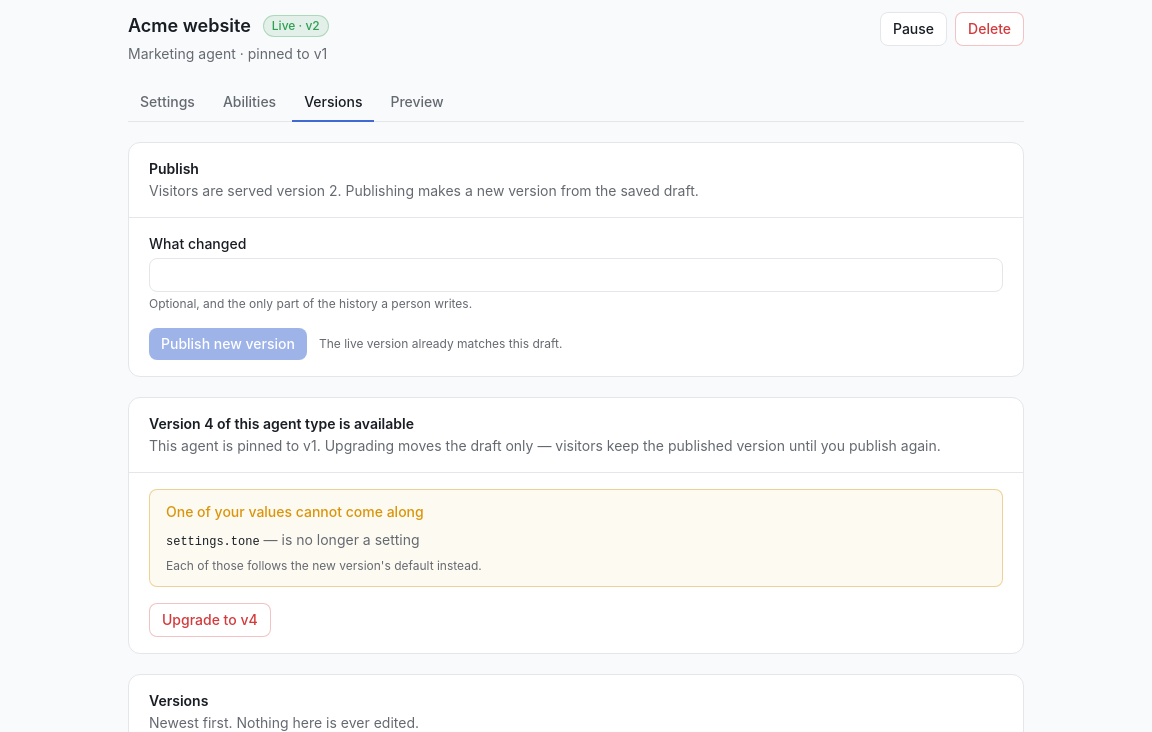
Test: upgrading the agent type › moves the draft only, and takes two clicks when something is dropped
Click the button "Upgrade to v4" at (210, 620), box x1=149 y1=603 x2=271 y2=637
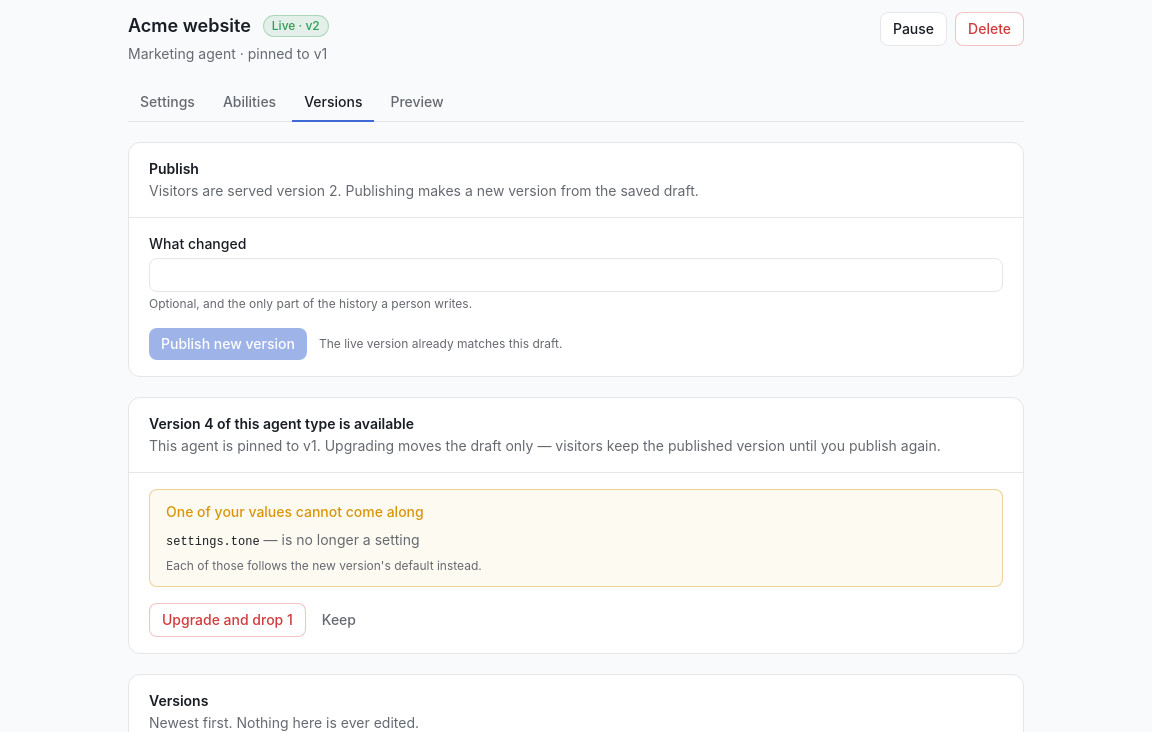
Click the button "Upgrade and drop 1" at (227, 620), box x1=149 y1=603 x2=306 y2=637
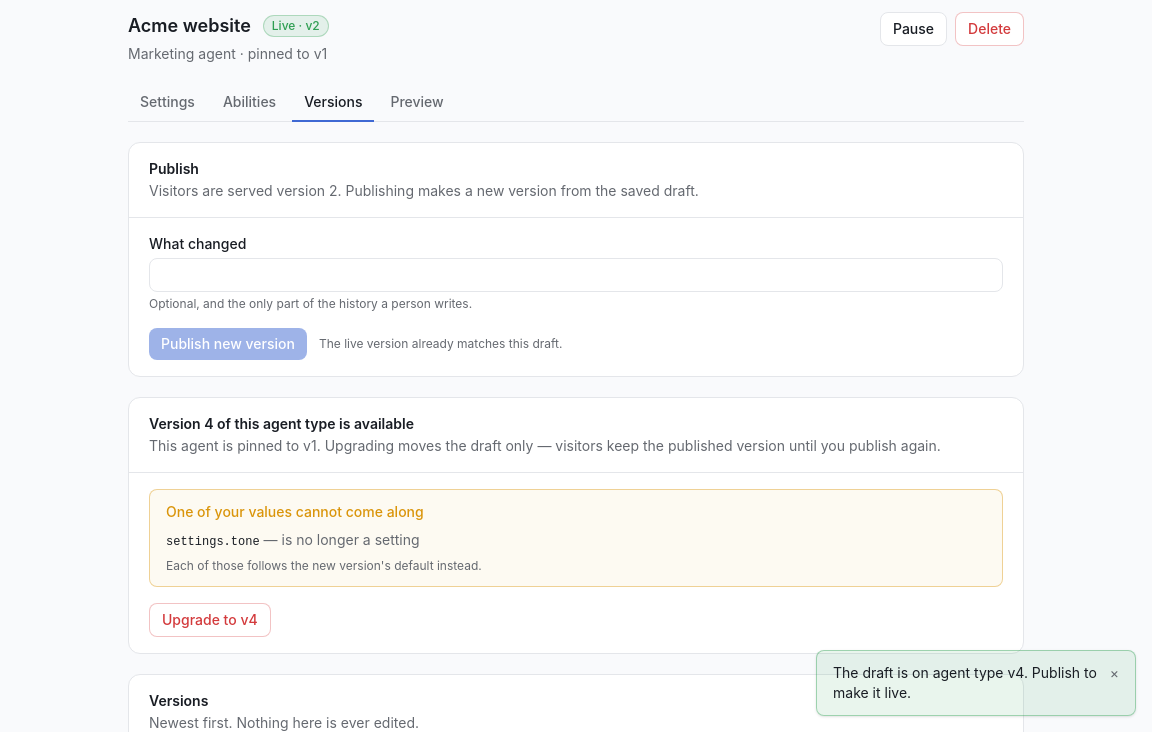
Result: the text "The draft is on agent type v4. Publish to make it live." is shown at x1=833 y1=663 x2=1098 y2=703
